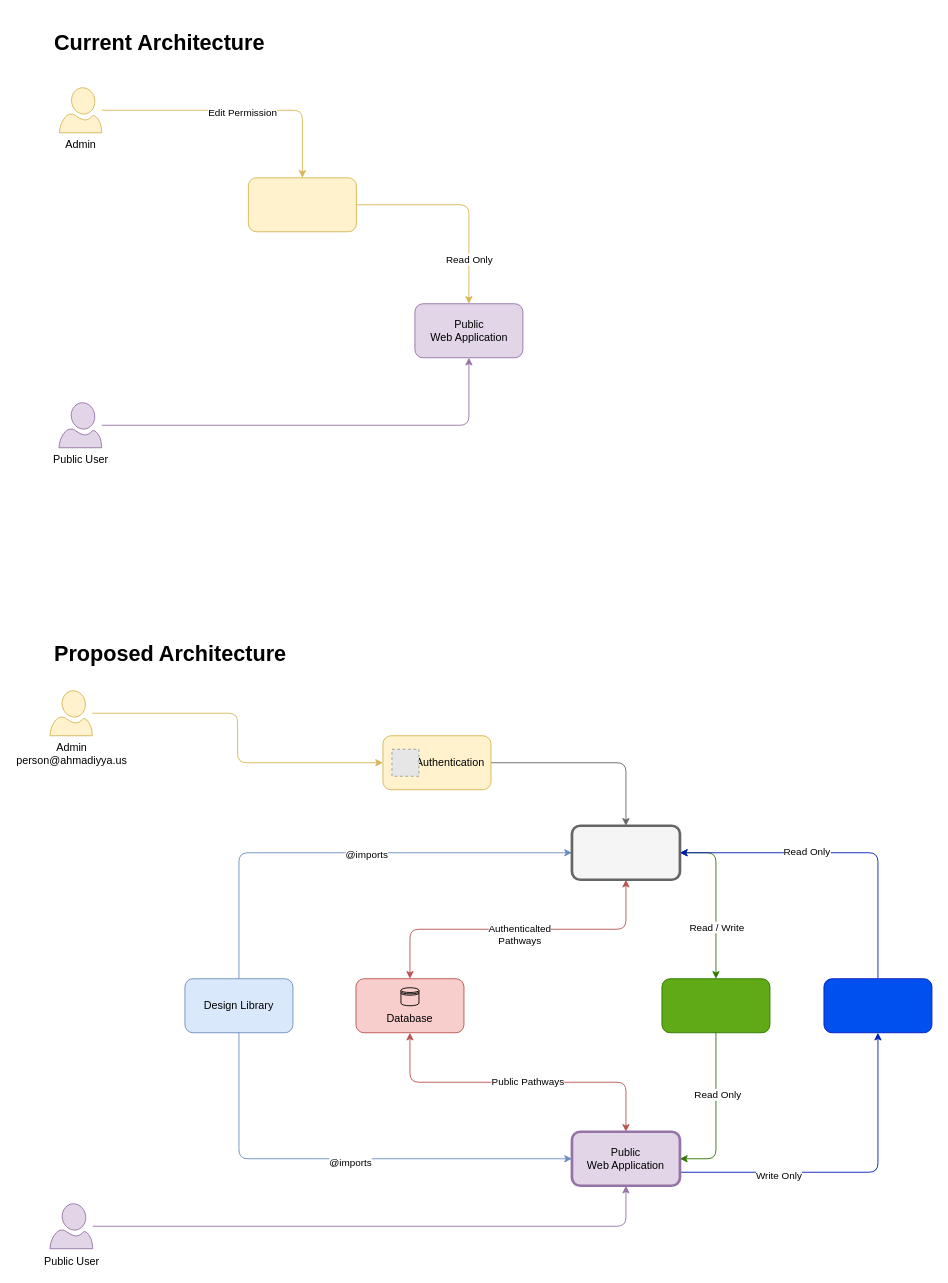
The diagram is 948 pixels wide and 1283 high, and some of its shapes have lost their labels. Grey dashed boxes stand in for pictures. The centre of each missing label's shape, as x and y in pixels:
"Admin Web Application" goes at [625,852].
"Analytics" goes at [877,1005].
"Google Spreadsheet" goes at [302,204].
"Image Library" goes at [715,1005].
